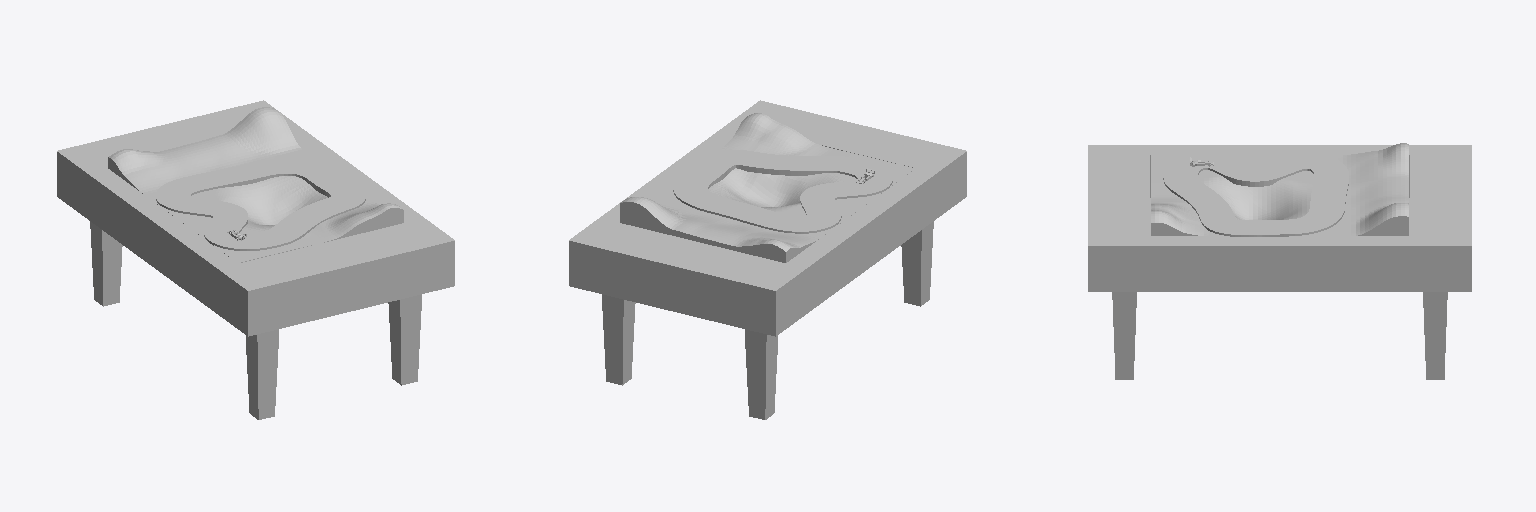
Rendered from NewestTisch65.obj.
The picture shows the model from 3 angles: view 1: azimuth 30°, elevation 25°; view 2: azimuth 150°, elevation 25°; view 3: azimuth 270°, elevation 25°; orthographic projection.
Visible parts, largest first — view 1: Tischplatte_wood_table_001, Landschaft_aerial_grass_rock, off, Bein1_wood_table_001, Bein4_wood_table_001.003, Bein3_wood_table_001.002; view 2: Tischplatte_wood_table_001, Landschaft_aerial_grass_rock, off, Bein2_wood_table_001.001, Bein3_wood_table_001.002, Bein4_wood_table_001.003; view 3: Tischplatte_wood_table_001, Landschaft_aerial_grass_rock, off, Bein1_wood_table_001, Bein2_wood_table_001.001.
Boxes of the visible parts, x1,y1,x2,y2 form: Tischplatte_wood_table_001: [57, 100, 454, 336]; Landschaft_aerial_grass_rock: [108, 107, 403, 262]; off: [156, 159, 365, 250]; Bein1_wood_table_001: [388, 294, 421, 385]; Bein4_wood_table_001.003: [246, 329, 278, 419]; Bein3_wood_table_001.002: [90, 221, 122, 306]; Tischplatte_wood_table_001: [569, 100, 966, 336]; Landschaft_aerial_grass_rock: [620, 113, 915, 262]; off: [673, 150, 892, 233]; Bein2_wood_table_001.001: [602, 294, 635, 385]; Bein3_wood_table_001.002: [745, 329, 777, 419]; Bein4_wood_table_001.003: [901, 221, 933, 306]; Tischplatte_wood_table_001: [1088, 145, 1471, 291]; Landschaft_aerial_grass_rock: [1151, 143, 1408, 235]; off: [1163, 153, 1348, 236]; Bein1_wood_table_001: [1112, 292, 1136, 379]; Bein2_wood_table_001.001: [1423, 292, 1447, 379].
Bounding box in the file's own units: 5 × 3.91 × 8.